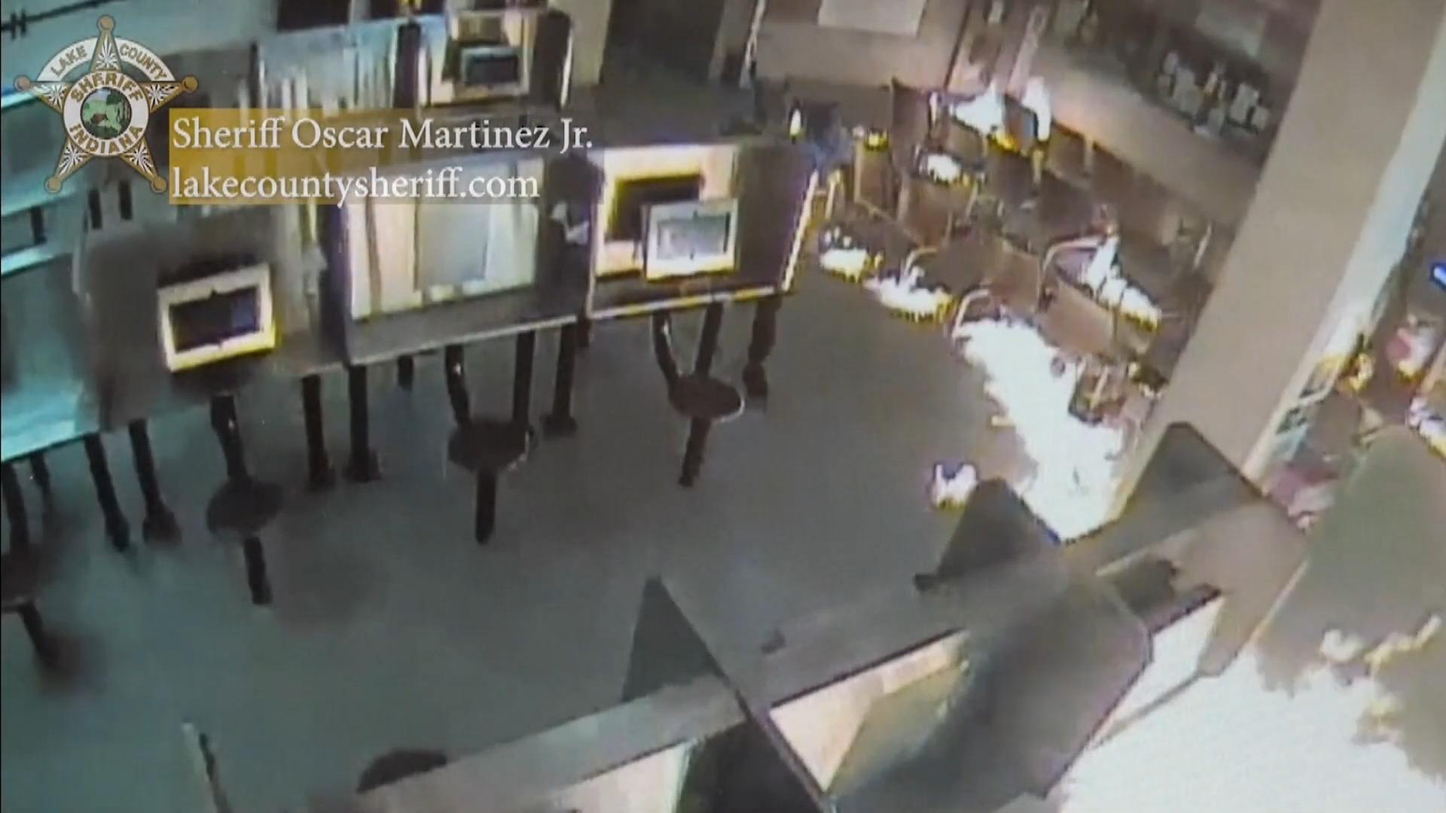fire: (816, 235, 1126, 540), (1061, 629, 1446, 813), (950, 75, 1052, 145)
